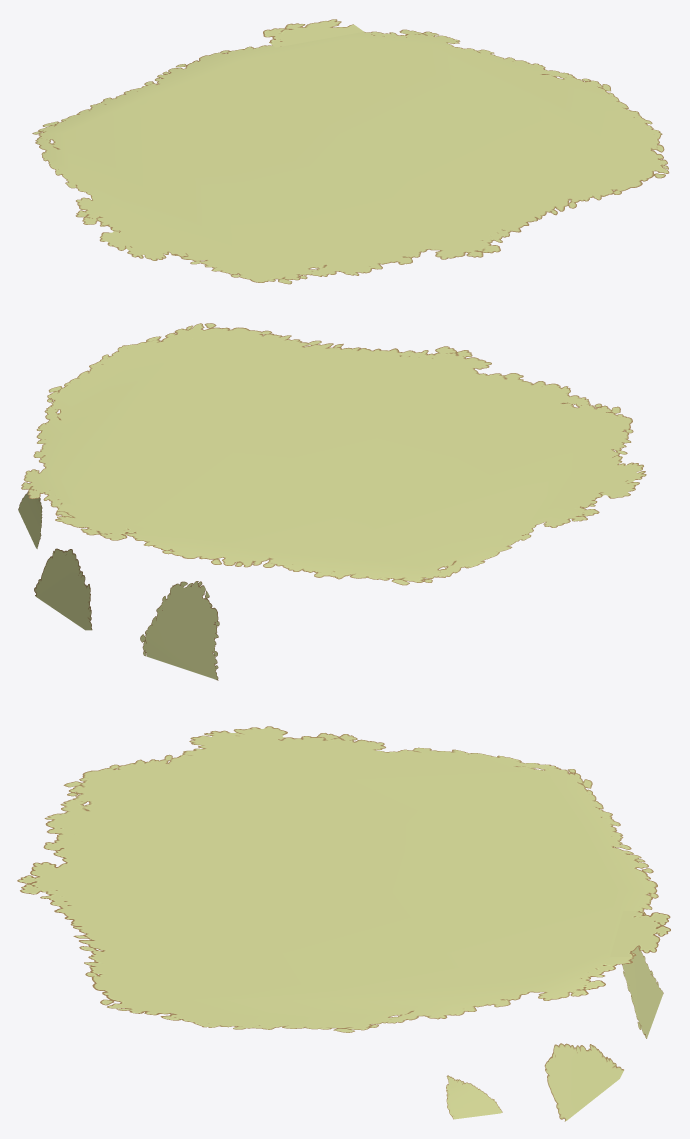
Rendered from Mesh_Home_BH_Grass_02.fbx.
The picture shows the model from 3 angles, top to bottom: view 1: azimuth 30°, elevation 25°; view 2: azimuth 150°, elevation 25°; view 3: azimuth 270°, elevation 25°; orthographic projection. The views are drawn at different scales.
Parts seen in each view (by area): view 1: Mesh_Home_BH_Grass_02; view 2: Mesh_Home_BH_Grass_02; view 3: Mesh_Home_BH_Grass_02.
Boxes of the visible parts, x1,y1,x2,y2 form: Mesh_Home_BH_Grass_02: (32,19,669,284); Mesh_Home_BH_Grass_02: (18,323,646,680); Mesh_Home_BH_Grass_02: (17,726,670,1121).
Size of the model in its own units: 773 by 152 by 668.
1 material, 1 textured.
